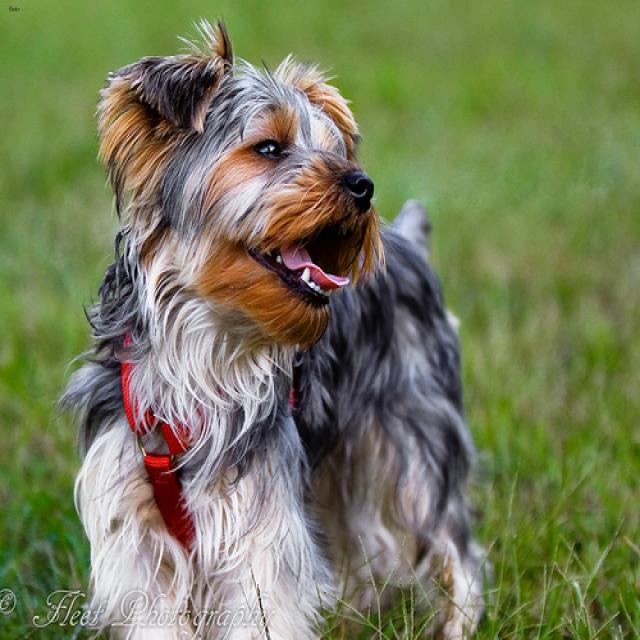dog-yorkshire_terrier: (41, 10, 495, 637)
